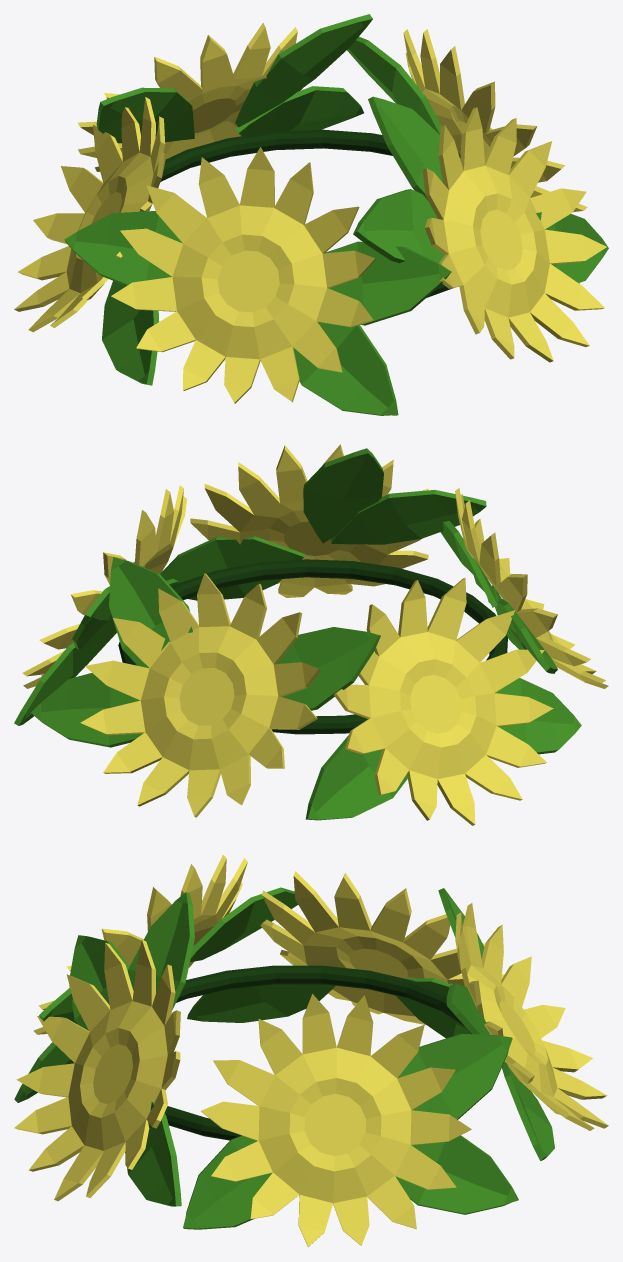
File: sunflower old.fbx
3 views of the same model, one above another, from view 1: azimuth 30°, elevation 25°; view 2: azimuth 150°, elevation 25°; view 3: azimuth 270°, elevation 25° (orthographic). The views are drawn at different scales.
Visible parts, largest first — view 1: flower3, flower4, flower2, flower1, flower5, Circle.008, Circle.007, Circle.002, Circle.009, Torus, Circle.014, Circle.013 (+5 smaller); view 2: flower1, flower2, flower4, Torus, flower3, Circle.014, Circle.013, Circle.001, Circle.005, flower5, Circle.003, Circle.012 (+6 smaller); view 3: flower5, flower4, flower2, flower1, Torus, Circle.015, Circle.016, flower3, Circle.006, Circle.017, Circle.013, Circle.012 (+8 smaller).
Part boxes in pixels (x1,y1,x2,y2): flower3: (111, 147, 375, 403); flower4: (422, 107, 606, 362); flower2: (14, 97, 165, 332); flower1: (78, 22, 302, 171); flower5: (403, 29, 587, 211); Circle.008: (293, 322, 398, 415); Circle.007: (325, 241, 451, 325); Circle.002: (235, 14, 372, 127); Circle.009: (64, 211, 182, 285); Torus: (160, 129, 460, 297); Circle.014: (353, 189, 444, 263); Circle.013: (368, 96, 443, 200); flower1: (80, 573, 320, 817); flower2: (334, 578, 553, 825); flower4: (190, 444, 428, 597); Torus: (118, 559, 507, 734); flower3: (455, 488, 608, 688); Circle.014: (331, 490, 486, 544); Circle.013: (303, 448, 383, 543); Circle.001: (277, 627, 380, 710); Circle.005: (305, 735, 407, 820); flower5: (22, 485, 186, 688); Circle.003: (31, 673, 142, 747); Circle.012: (160, 536, 305, 600); flower5: (201, 994, 471, 1246); flower4: (14, 940, 180, 1201); flower2: (260, 871, 504, 1024); flower1: (455, 903, 608, 1130); Torus: (164, 965, 471, 1140); Circle.015: (397, 1034, 512, 1119); Circle.016: (395, 1135, 518, 1214); flower3: (33, 855, 247, 1034); Circle.006: (187, 984, 335, 1022); Circle.017: (183, 1135, 271, 1229); Circle.013: (128, 892, 194, 1009); Circle.012: (125, 1102, 181, 1206).
Size of the model in its own units: 748 by 348 by 762.
